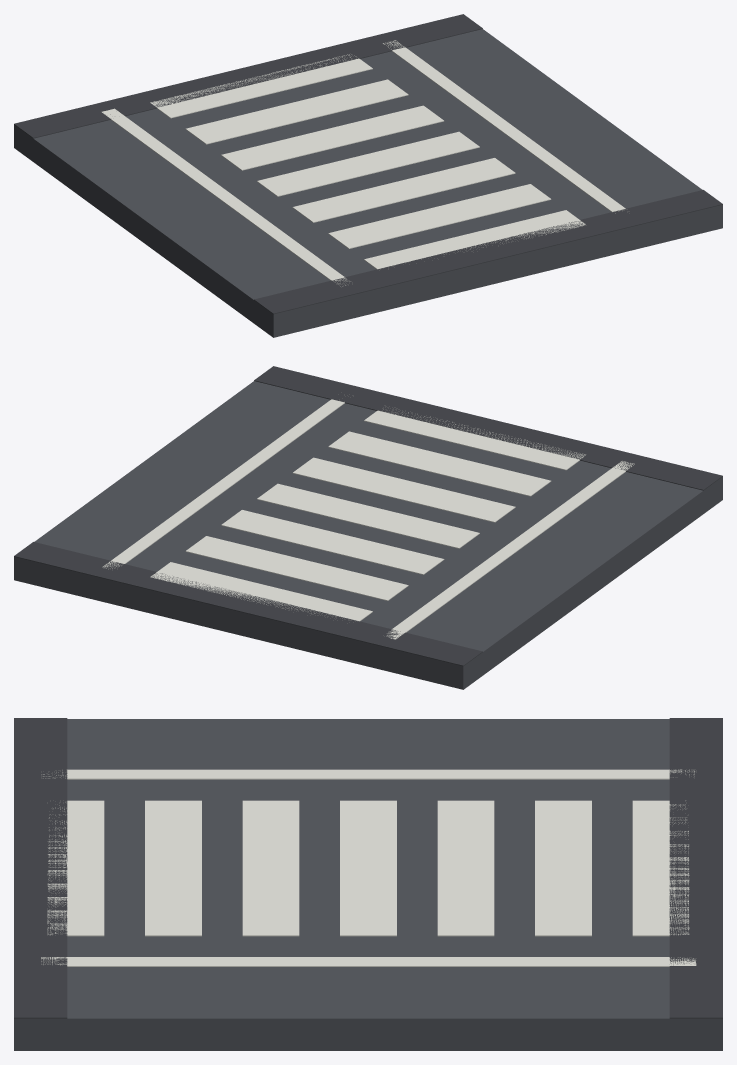
The model's file is Road_Crosswalk.glb.
3 renders of one model, top to bottom at view 1: azimuth 30°, elevation 25°; view 2: azimuth 150°, elevation 25°; view 3: azimuth 270°, elevation 25°, orthographic. The views are drawn at different scales.
Parts seen in each view (by area): view 1: Road_Crosswalk; view 2: Road_Crosswalk; view 3: Road_Crosswalk.
Part boxes in pixels (bbox=[...]): Road_Crosswalk: bbox=[14, 14, 722, 337]; Road_Crosswalk: bbox=[14, 366, 722, 689]; Road_Crosswalk: bbox=[14, 718, 722, 1050].
Bounding box in the file's own units: 4 × 0.206 × 4.
1 material, 1 textured.
